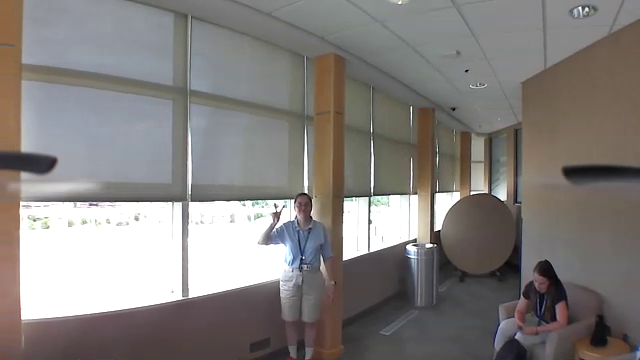peace: (266, 200, 290, 229)
